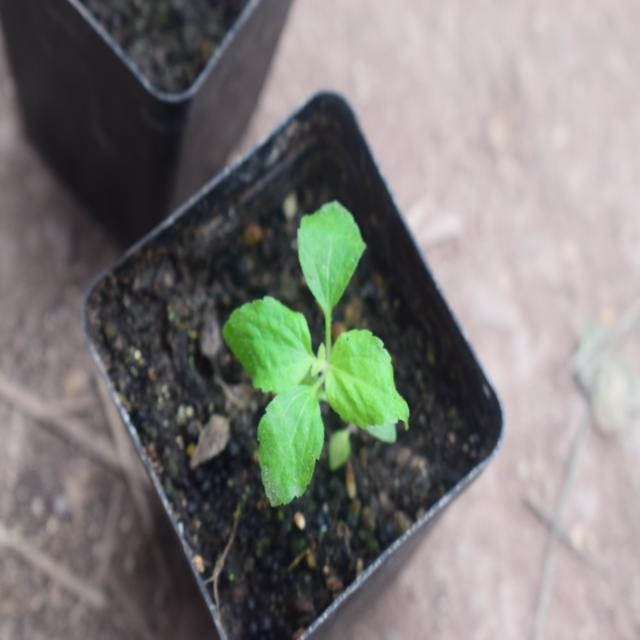billygoat_weed: (232, 194, 402, 498)
